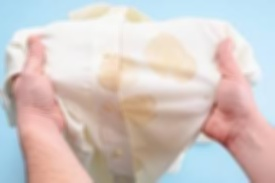oil: (138, 32, 192, 84), (110, 87, 157, 141), (95, 56, 136, 96)
